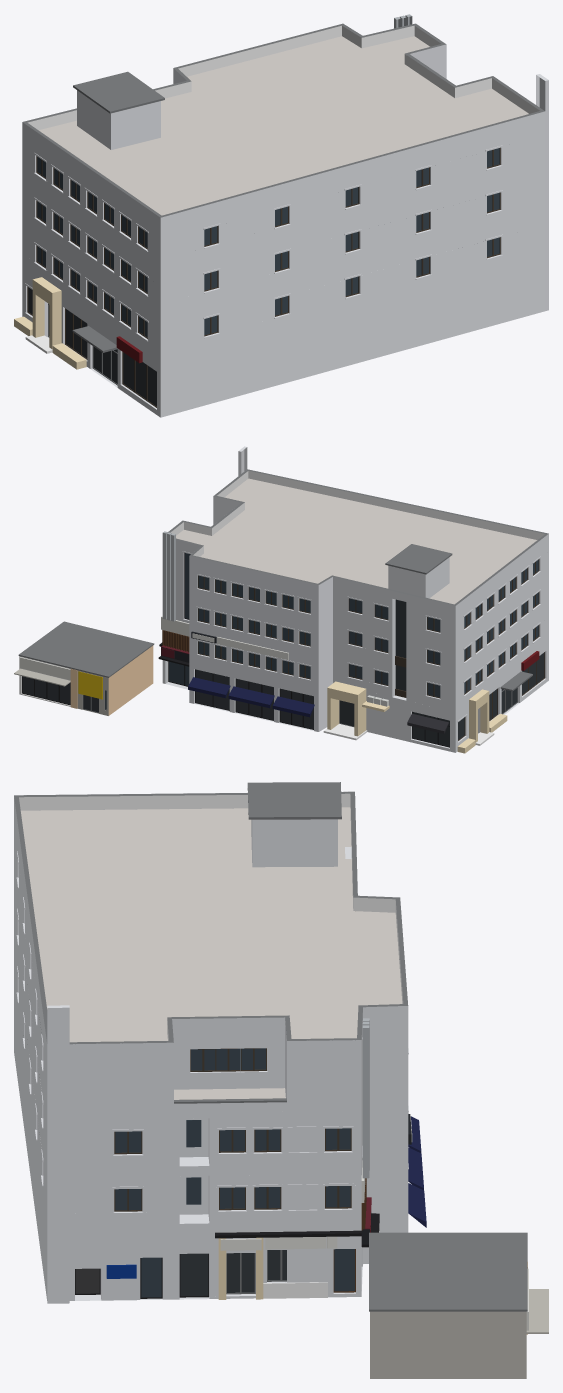
File: customeat110.glb
3 renders of one model, top to bottom at view 1: azimuth 30°, elevation 25°; view 2: azimuth 150°, elevation 25°; view 3: azimuth 270°, elevation 25°, orthographic. The views are drawn at different scales.
Visible parts, largest first — view 1: CustomEat110; view 2: CustomEat110; view 3: CustomEat110.
Part boxes in pixels (left/top/right/bottom): CustomEat110: left=14, top=14, right=548, bottom=417; CustomEat110: left=14, top=446, right=548, bottom=753; CustomEat110: left=14, top=782, right=548, bottom=1378.
Bounding box in the file's own units: 43.15 × 17.52 × 28.69.
